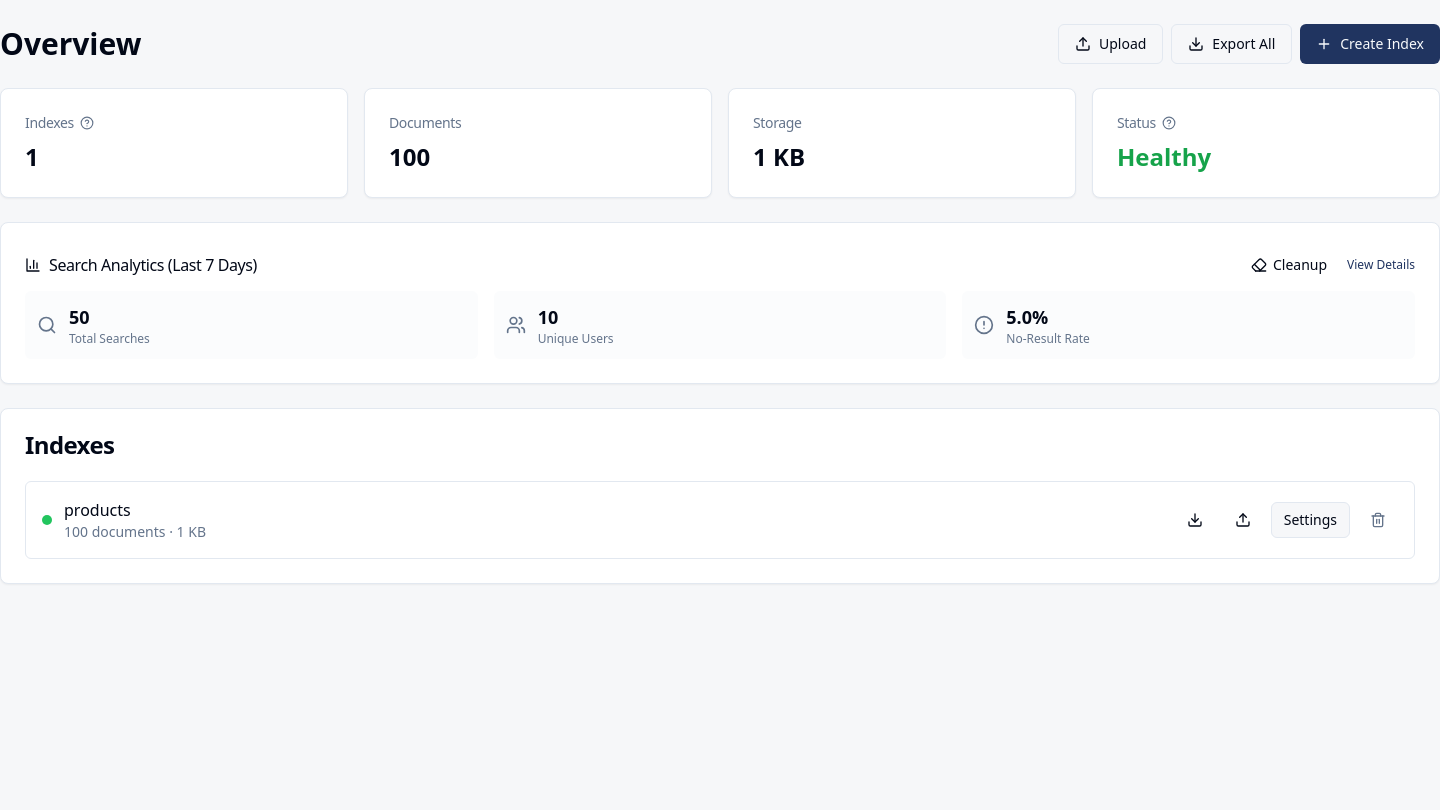
Test: Overview Cleanup Button › shows success message after cleanup
What coordinates should you click on to do the following:
click the button with test id "overview-cleanup-btn"
I would click on:
 (1289, 265)
Its box is [1239,247,1339,283].
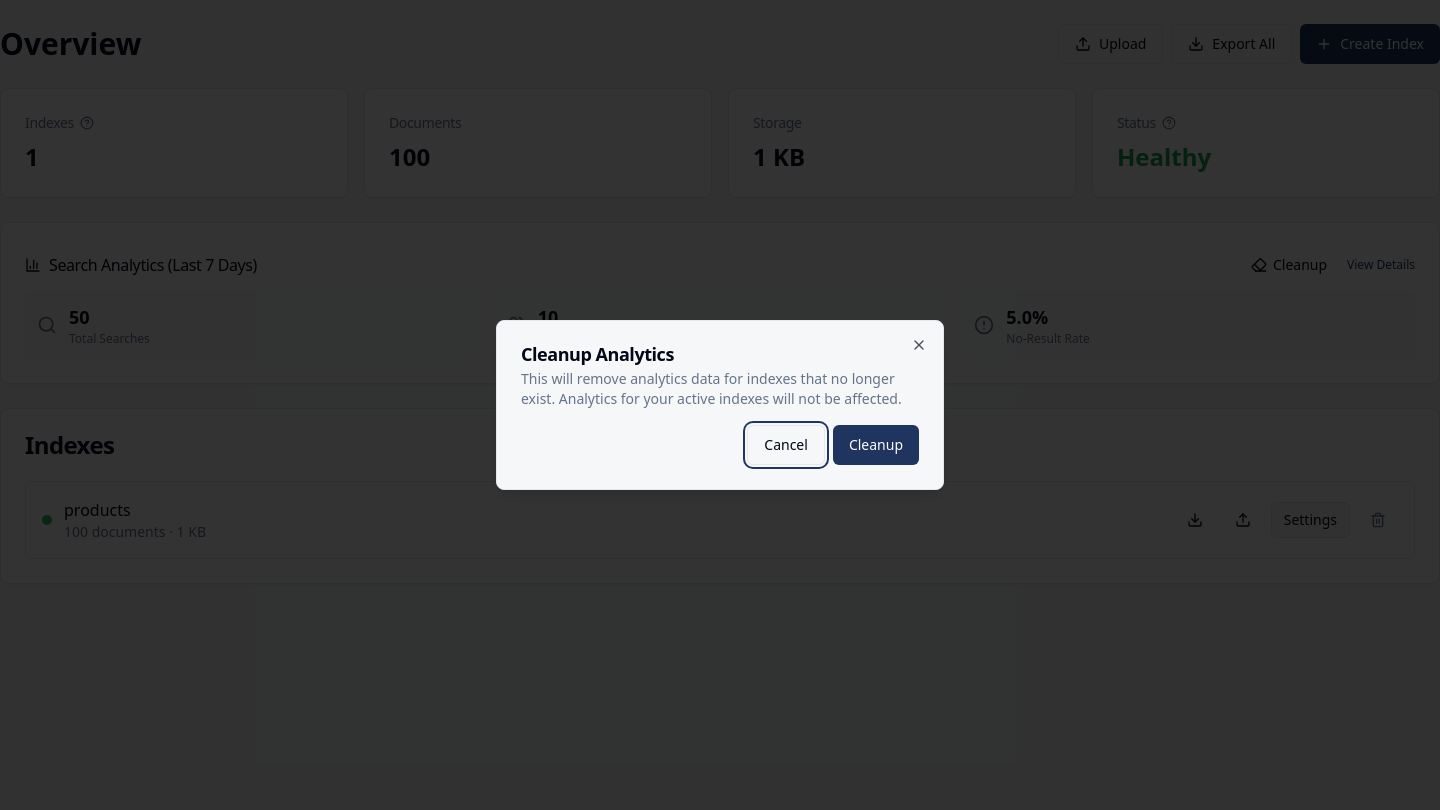
What coordinates should you click on to do the following:
click the button "Cleanup"
I would click on:
 (876, 445)
Its box is [833,425,919,465].
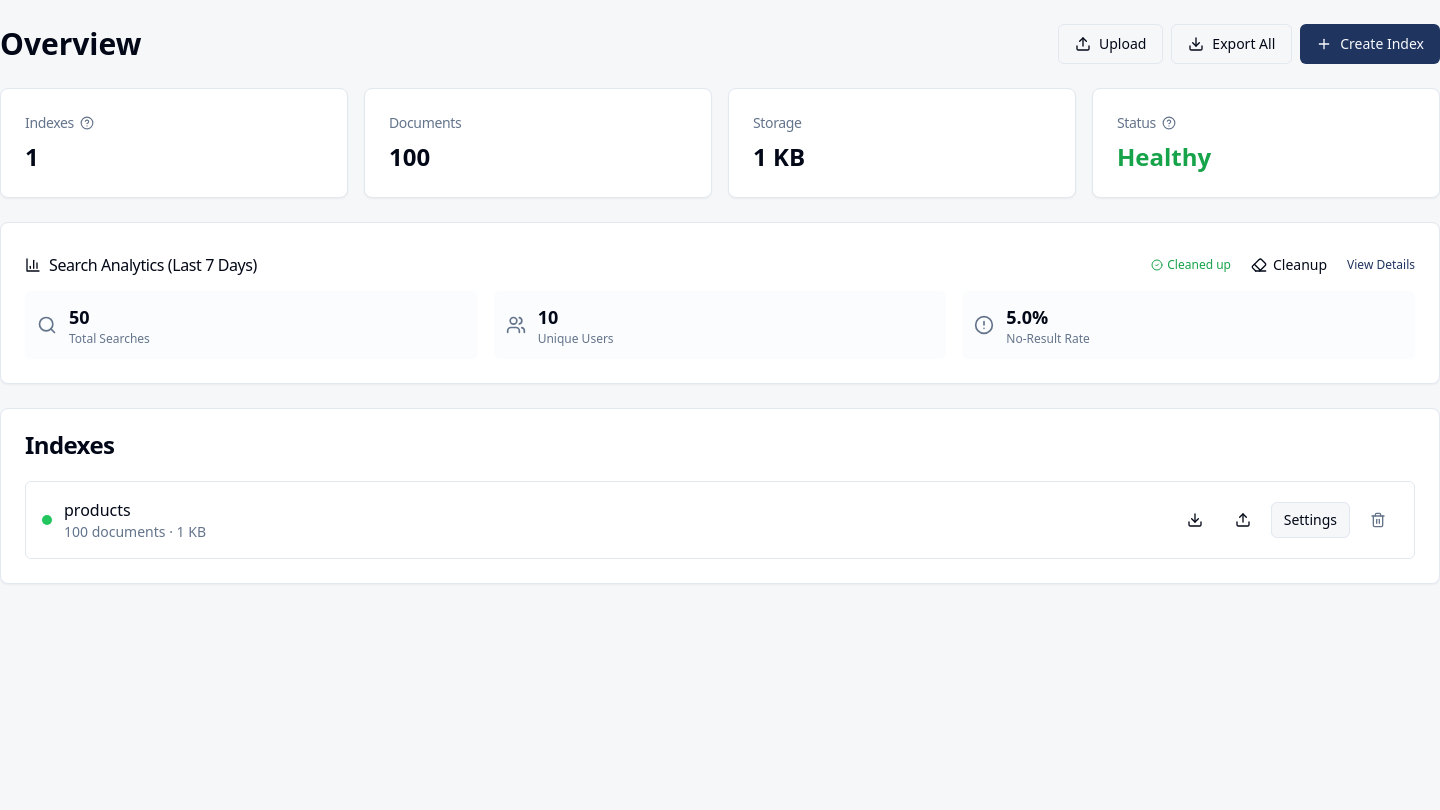
Result: the text "Cleaned up" is shown at [1151,257,1231,273]
